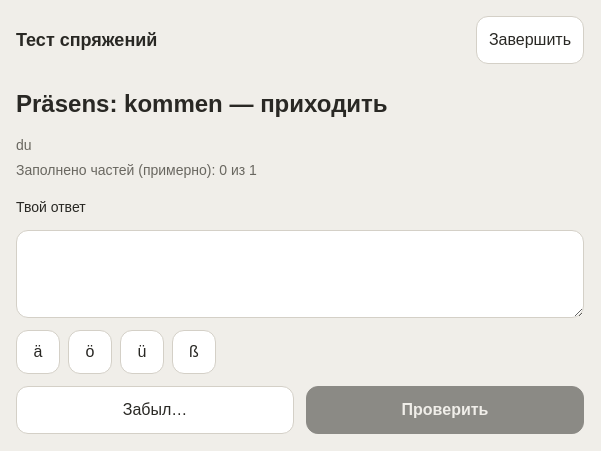
Scenario: useConjugationHost (StrictMode) › useConjugationHost: start from Today › H2 a consumed tap never starts again: after the test is ended no new session is started
Click the button "Завершить" at {"x": 530, "y": 40}, box [476,16,584,64]
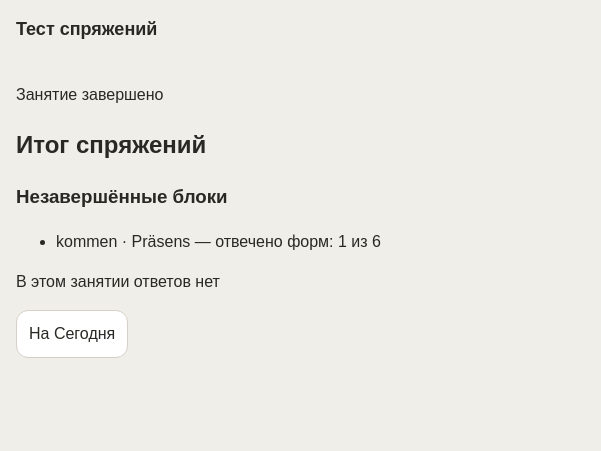
Now the text "Занятие завершено" is shown, box [16,86,164,103]
